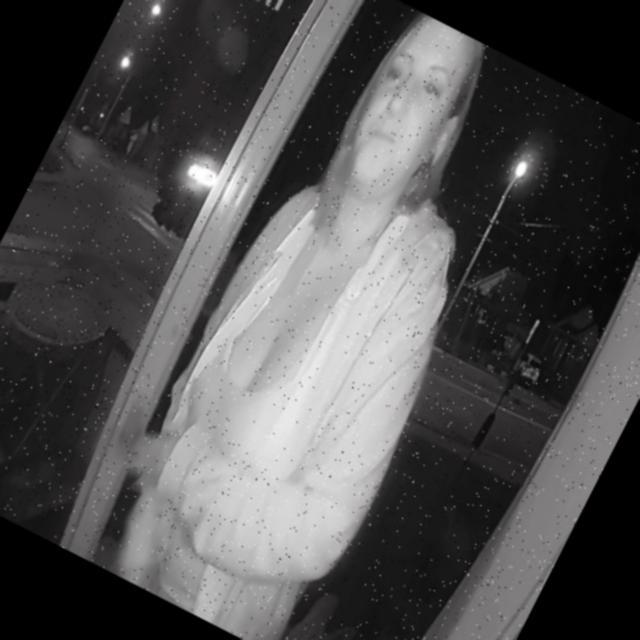person: (69, 0, 580, 640)
